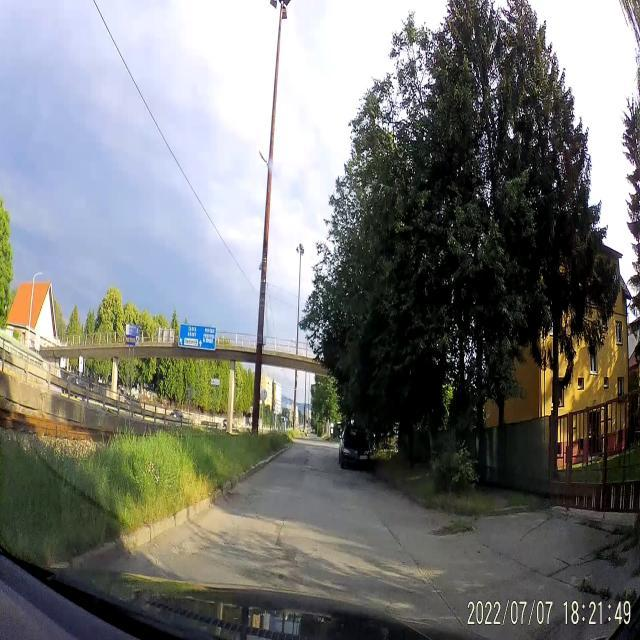Pothole: (214, 476, 247, 517)
